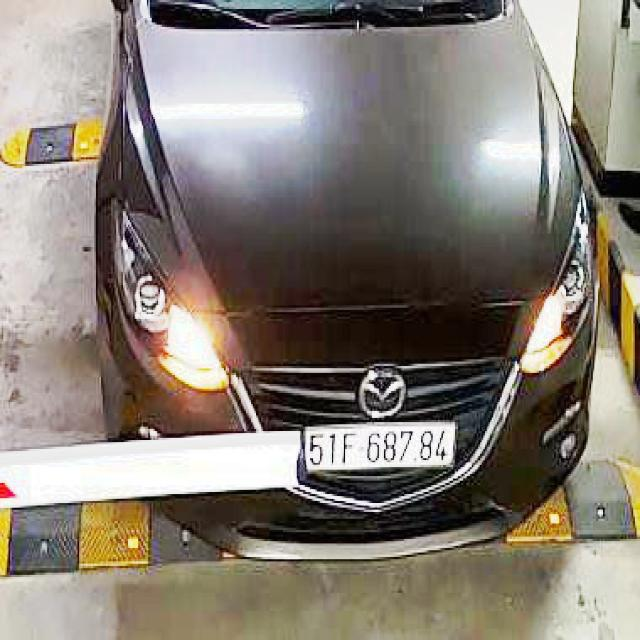license_plate: (309, 428, 456, 471)
